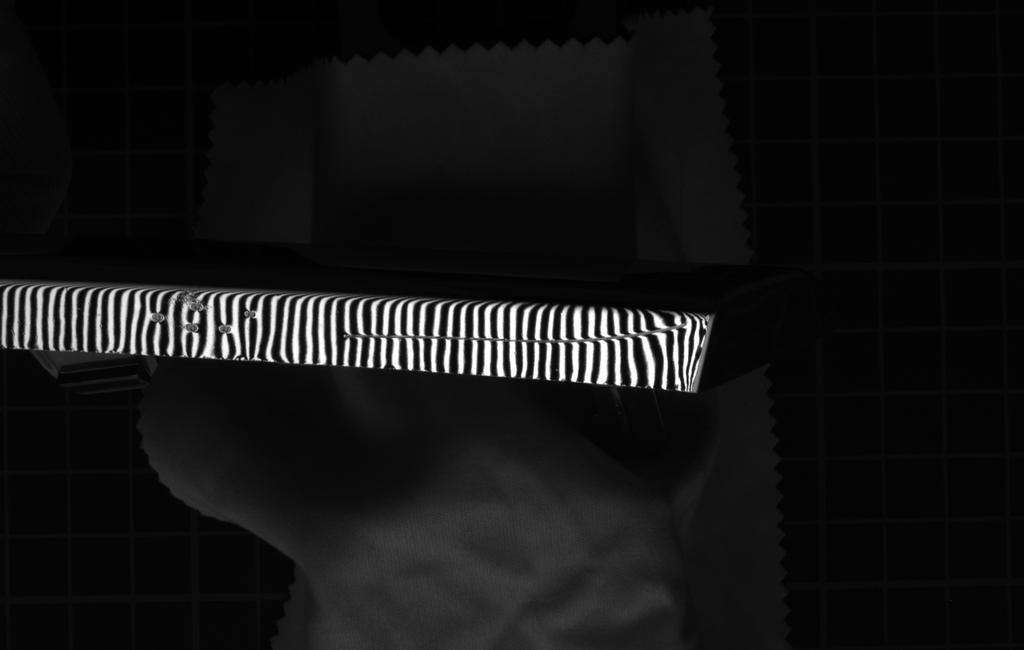Pierced: (233, 303, 261, 325), (213, 319, 236, 340), (182, 319, 202, 339), (148, 307, 169, 325), (185, 299, 207, 313)
Pitting: (167, 287, 213, 315)
Scratch: (335, 318, 695, 346)
